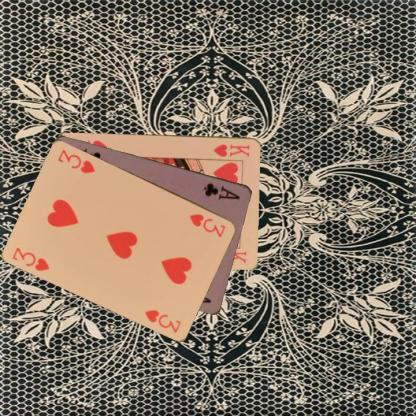3h: (187, 211, 228, 239), (10, 245, 51, 272)
Ac: (201, 180, 242, 200)
Kh: (211, 141, 251, 158)
